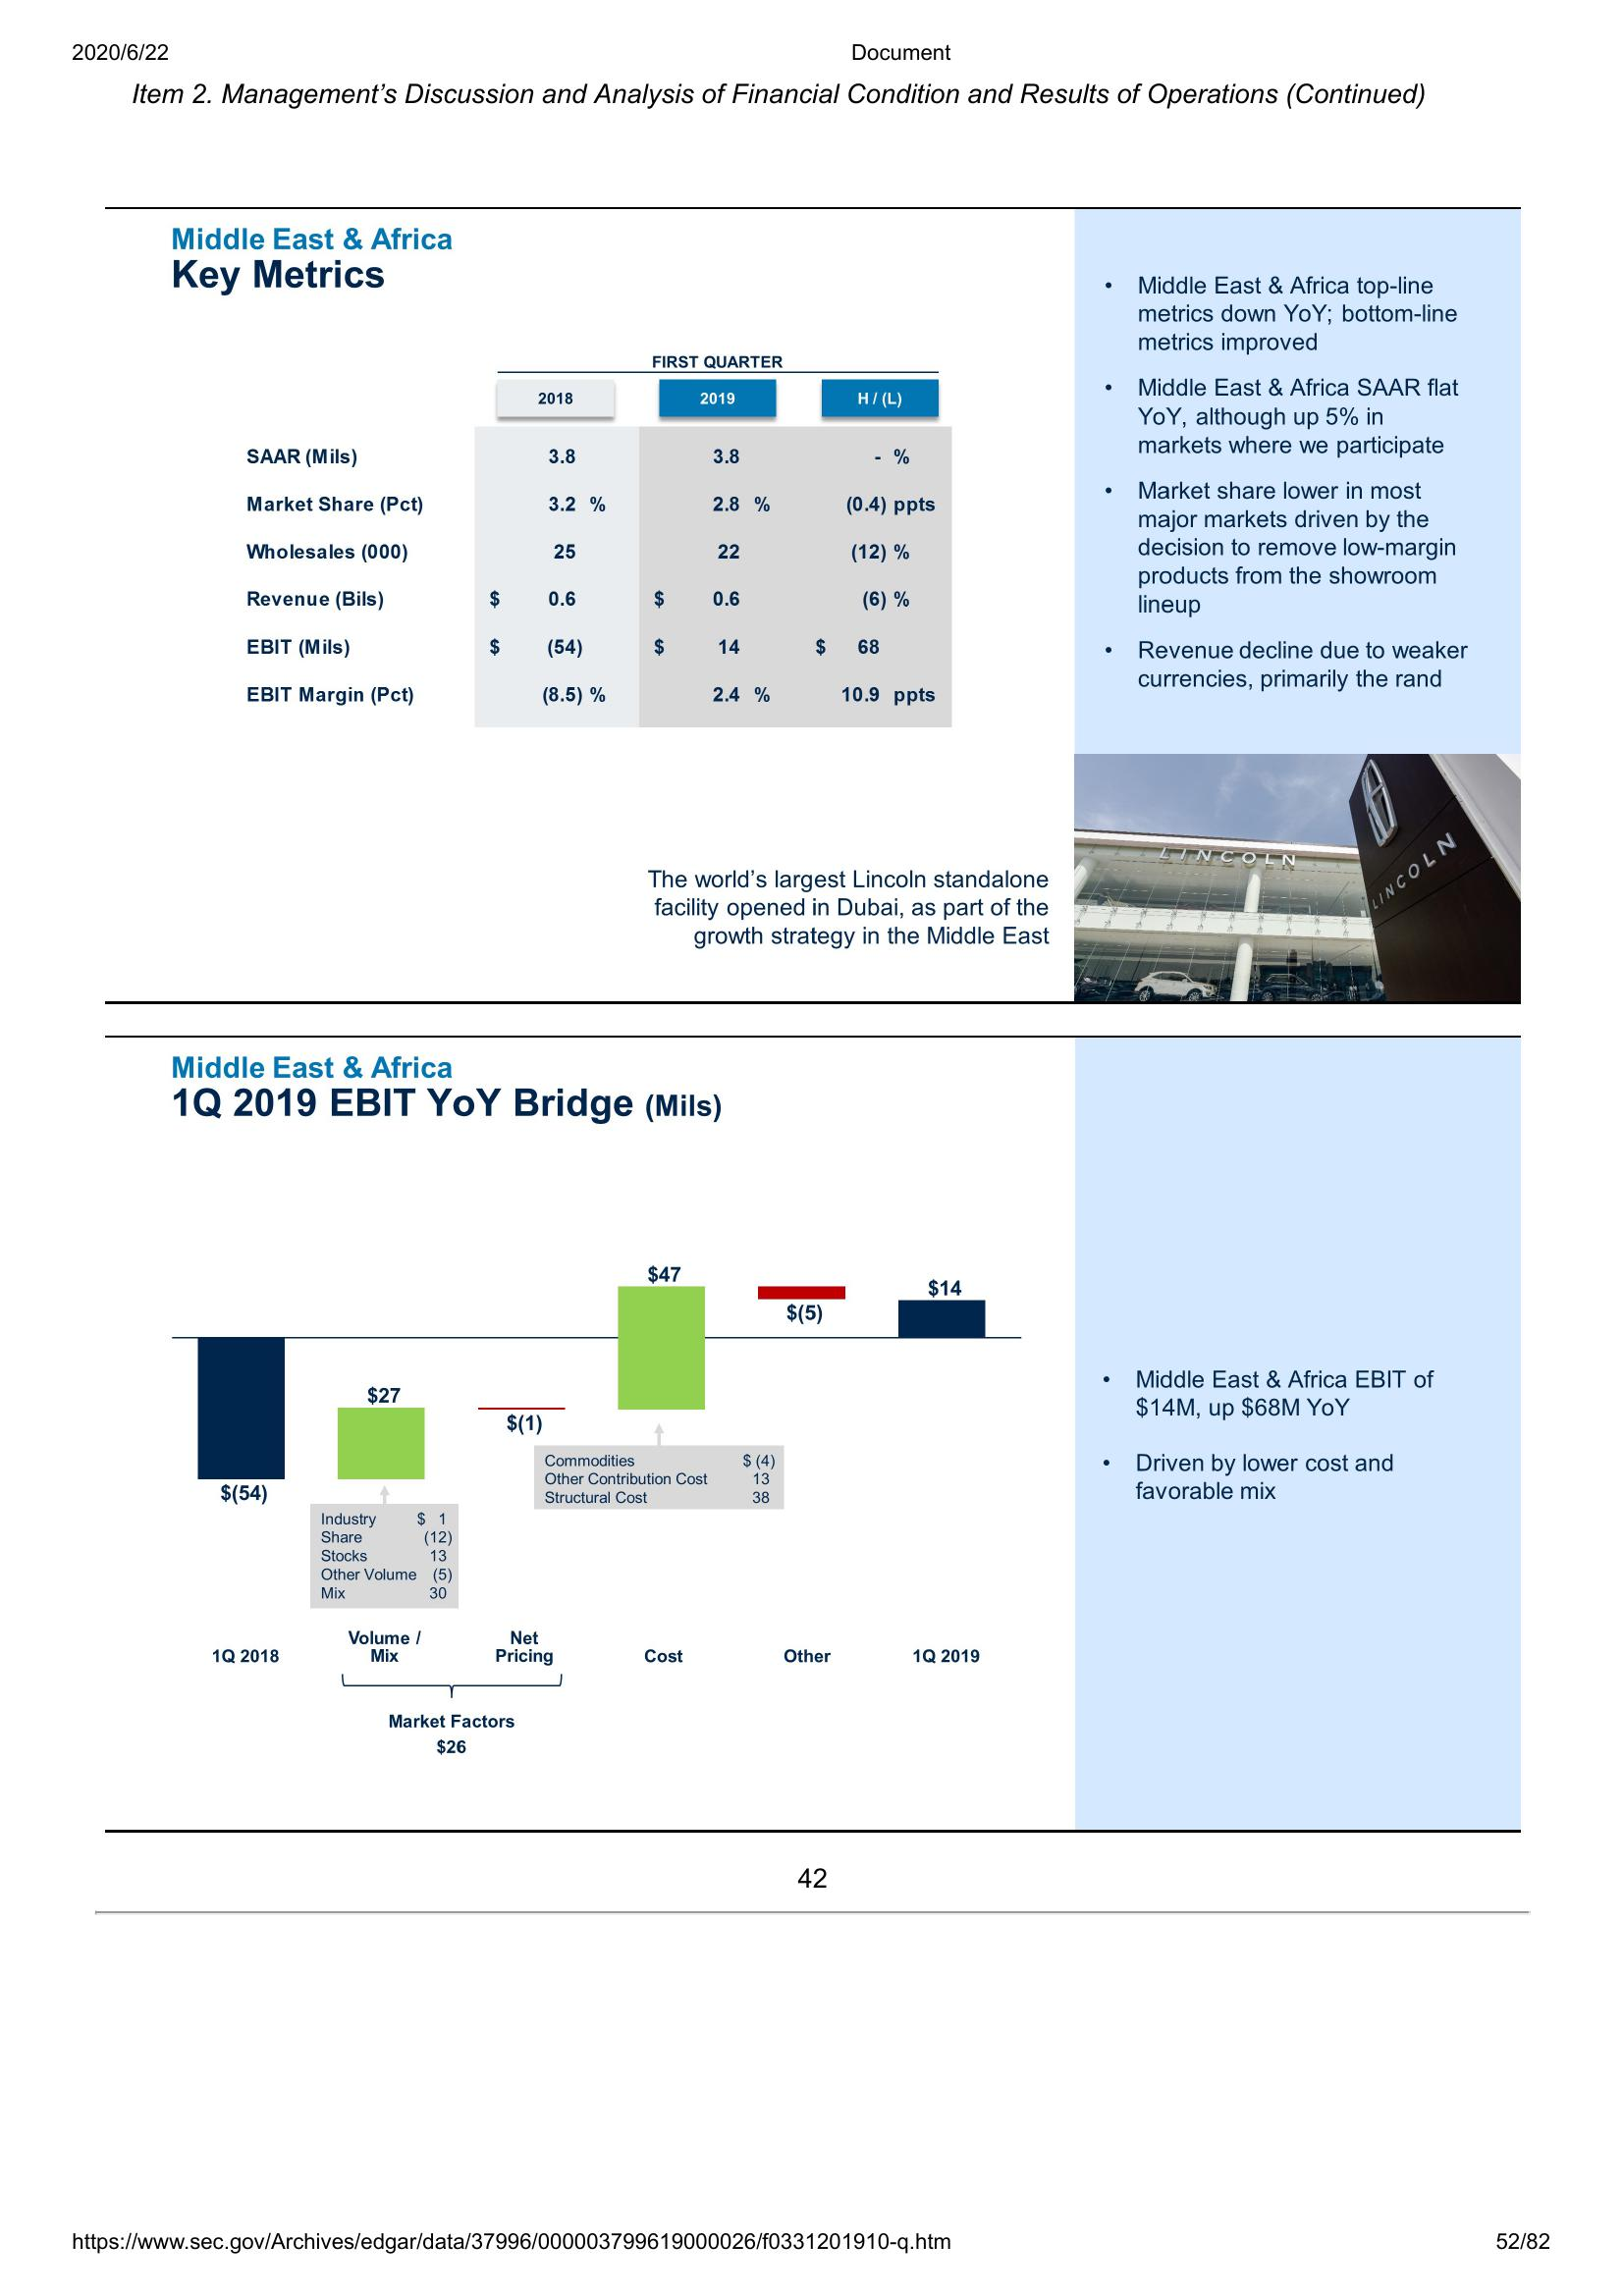table: (237, 353, 950, 714)
